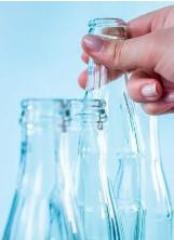glass: (3, 16, 174, 240)
